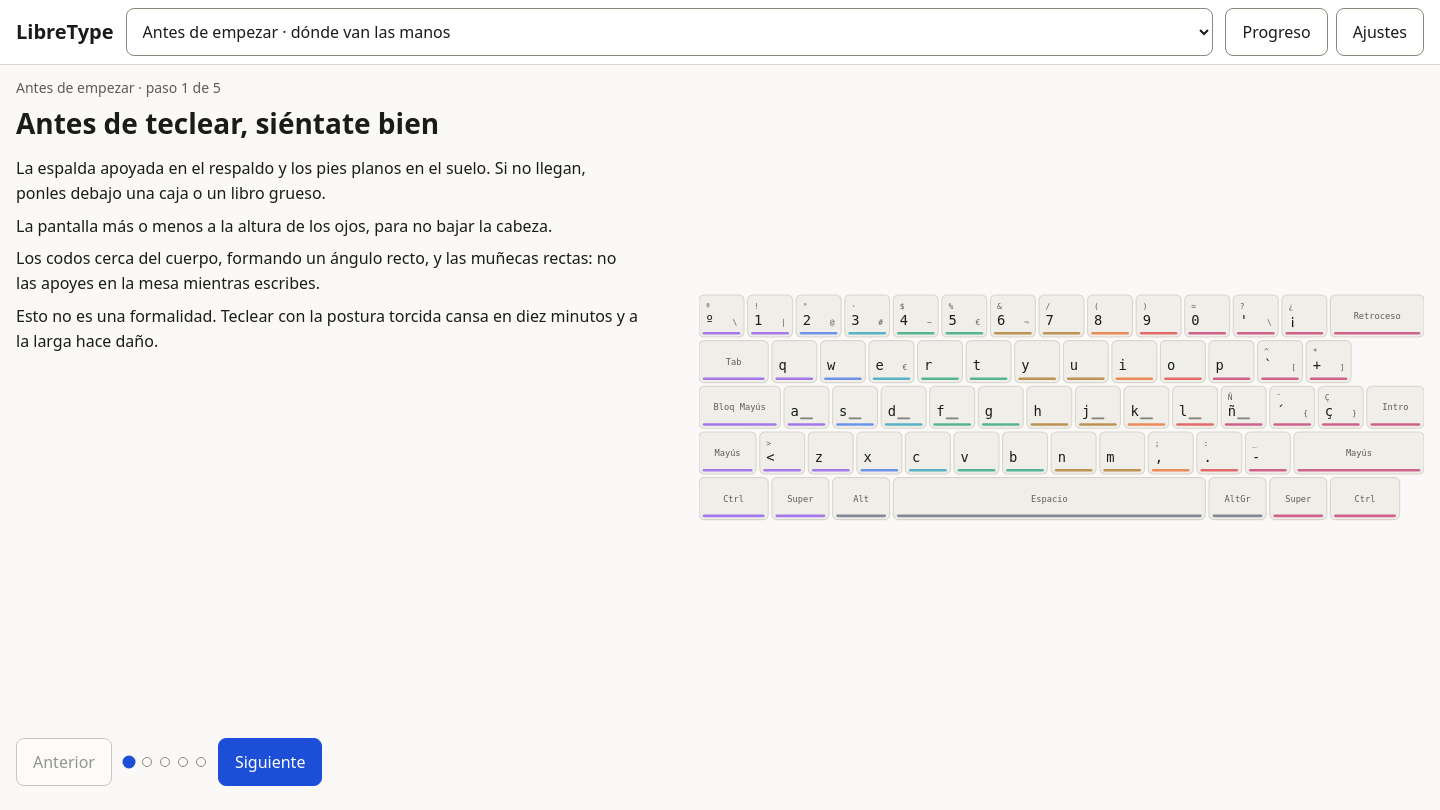
Test: captura y paneles › permite acceder al modo de práctica continua (Issue #19)
Select "1. Fila de reposo · Disponible" in the dropdown at (670, 32), box [126,8,1214,56]
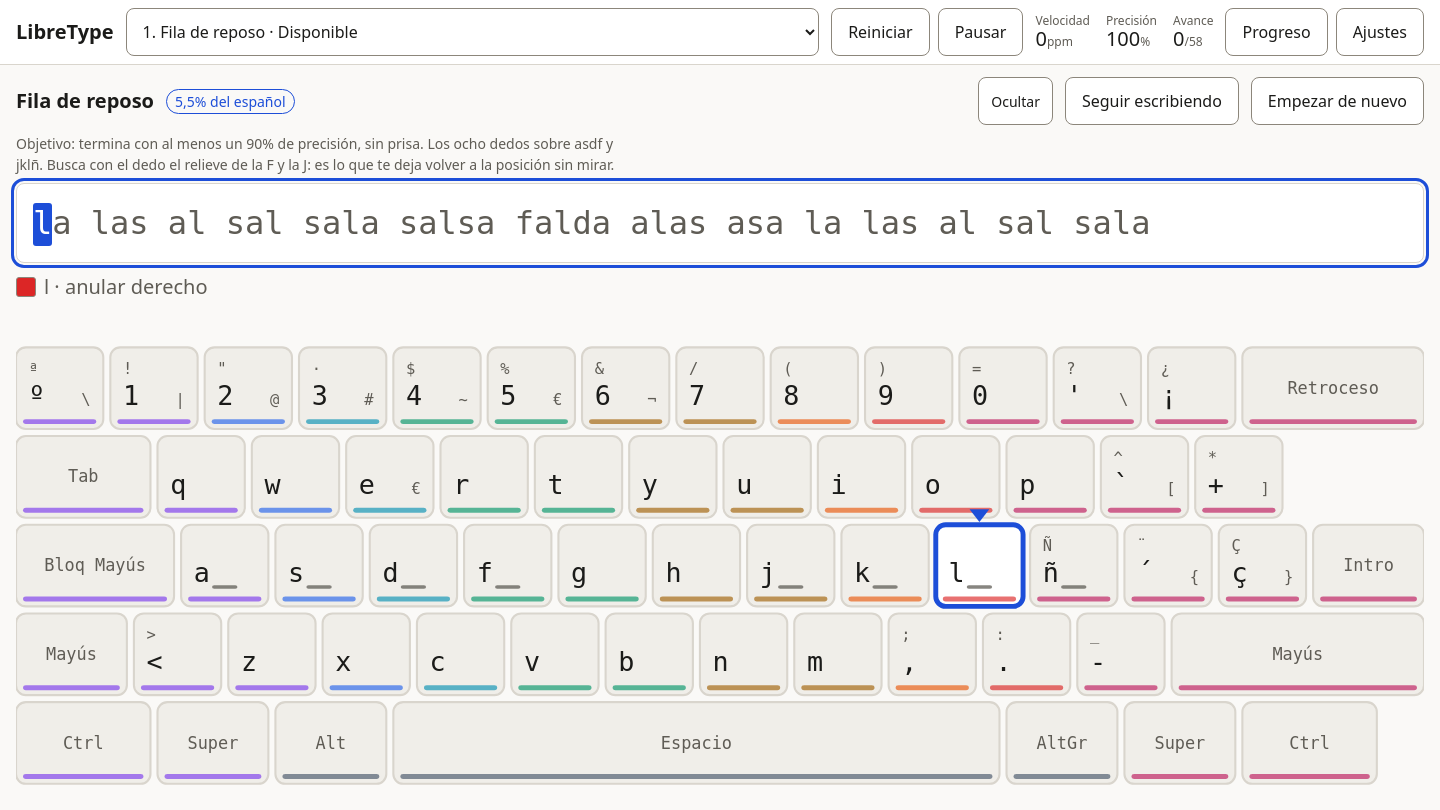
Select "Práctica continua · vocabulario acumulado" in the dropdown at (472, 32), box [126,8,819,56]
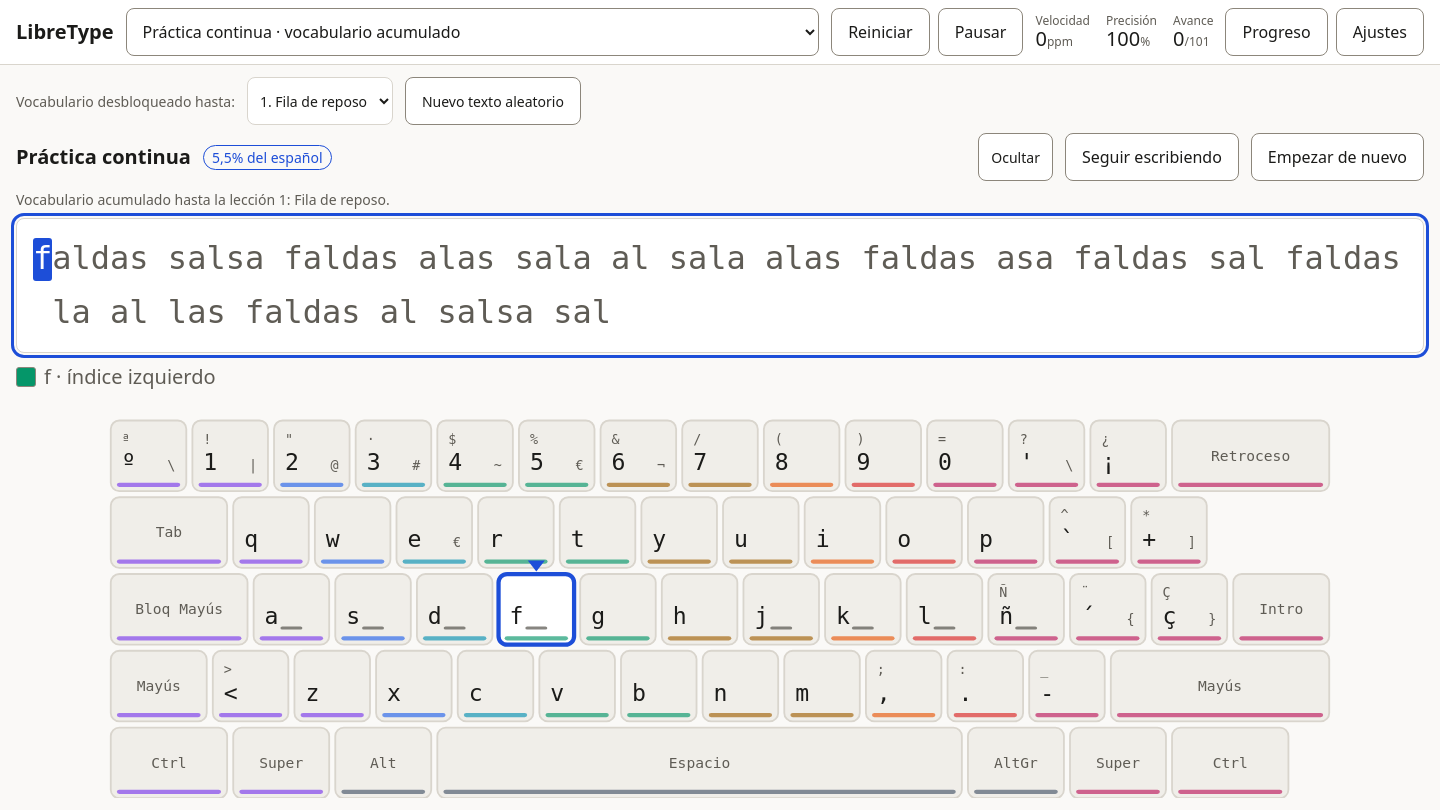
expect the label with class "capture" is shown: met, box [16,218,1424,353]
expect the heading "Práctica continua" is shown: met, box [16,142,191,172]
